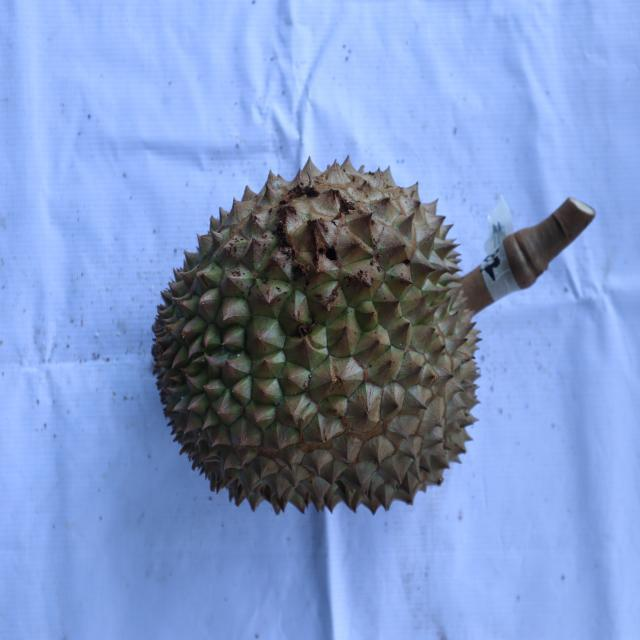mature: (151, 147, 481, 515)
